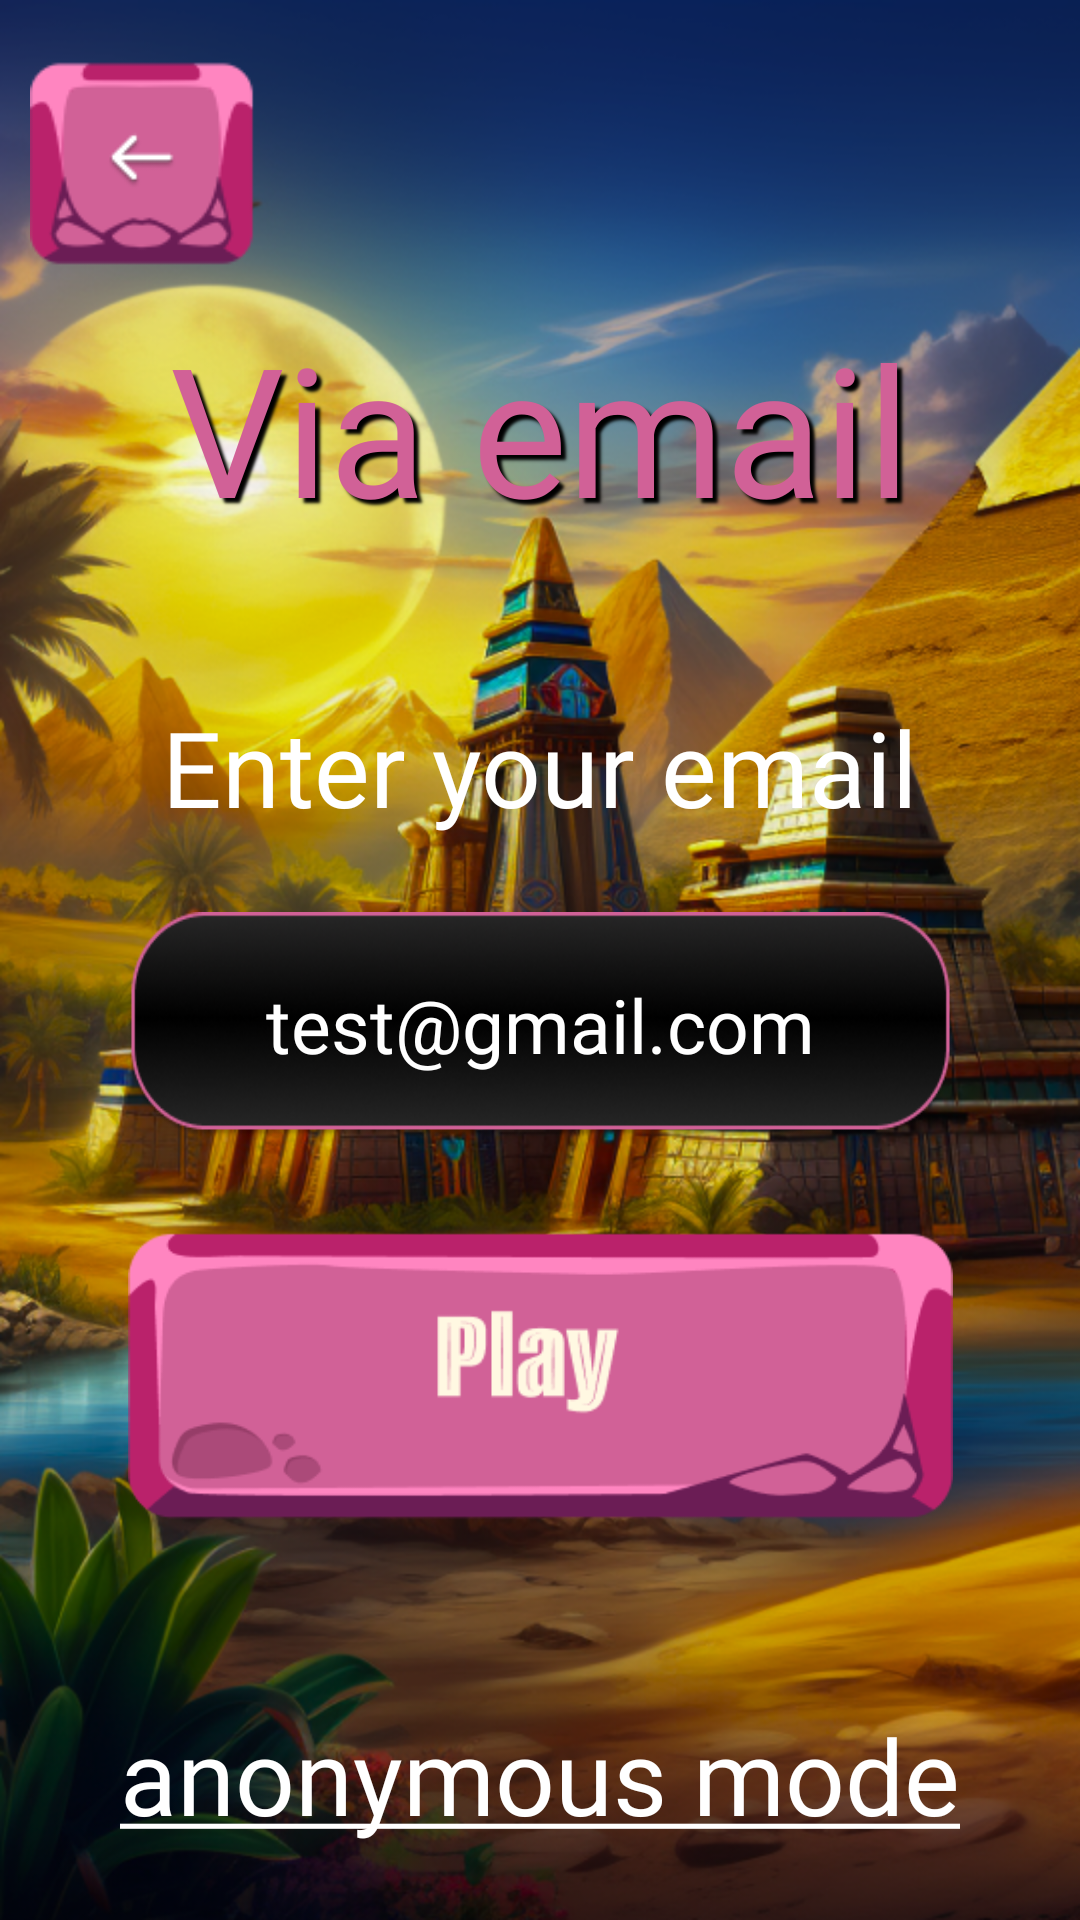

Where to tap for icons on this 1080px×1920px app screen, as (x=x, y=y):
back: (x=142, y=163)
